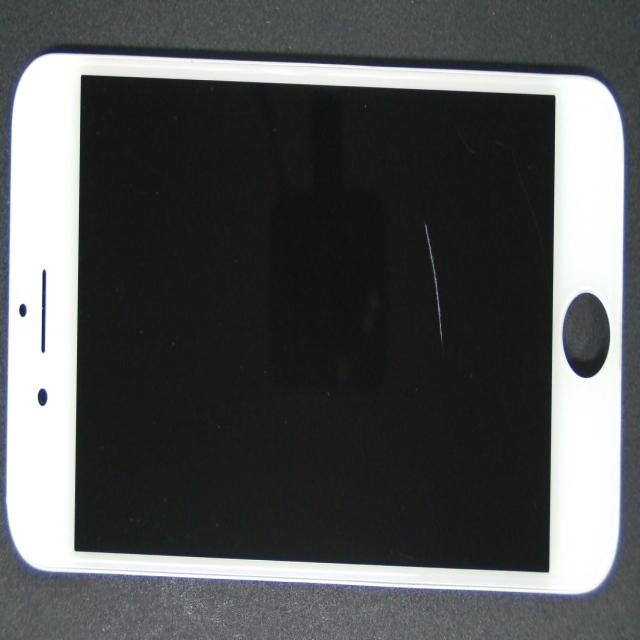scratch: (254, 228, 640, 400)
